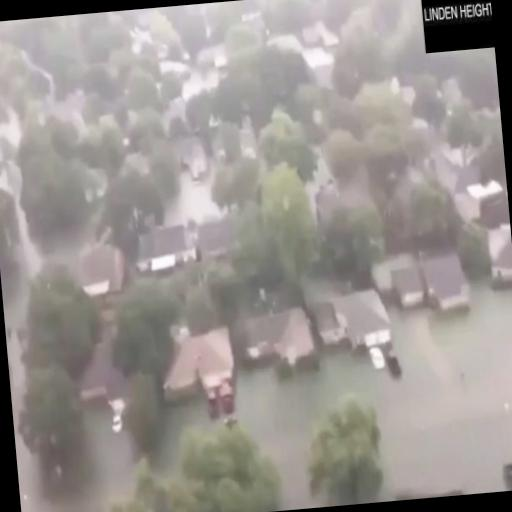flood: (236, 282, 512, 511), (3, 204, 136, 512), (159, 398, 210, 472), (167, 171, 224, 223)
house: (162, 324, 241, 406), (316, 287, 395, 359), (242, 306, 317, 372), (392, 254, 472, 314), (138, 223, 198, 272), (81, 244, 127, 296), (485, 228, 512, 282)
